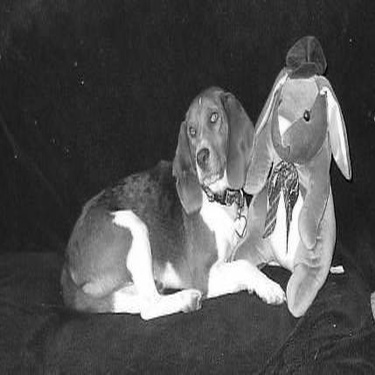dog: (49, 79, 288, 320), (237, 60, 357, 196)
